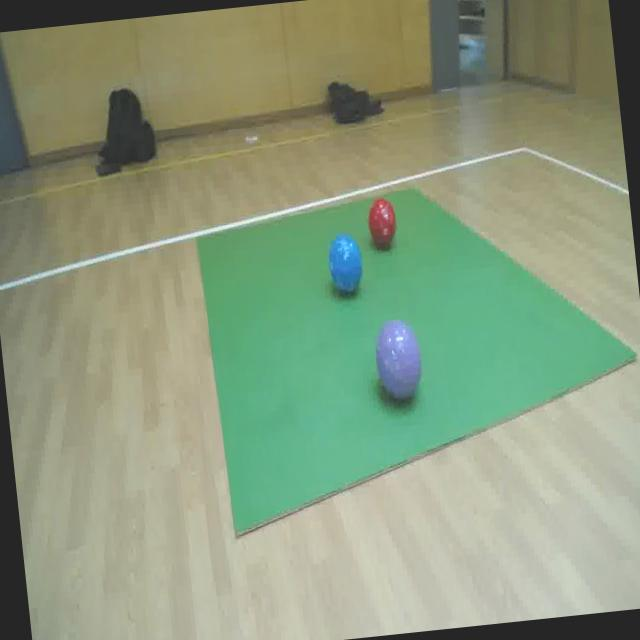blue_ball: (325, 233, 365, 298)
purple_ball: (371, 316, 426, 405)
red_ball: (366, 196, 398, 251)
